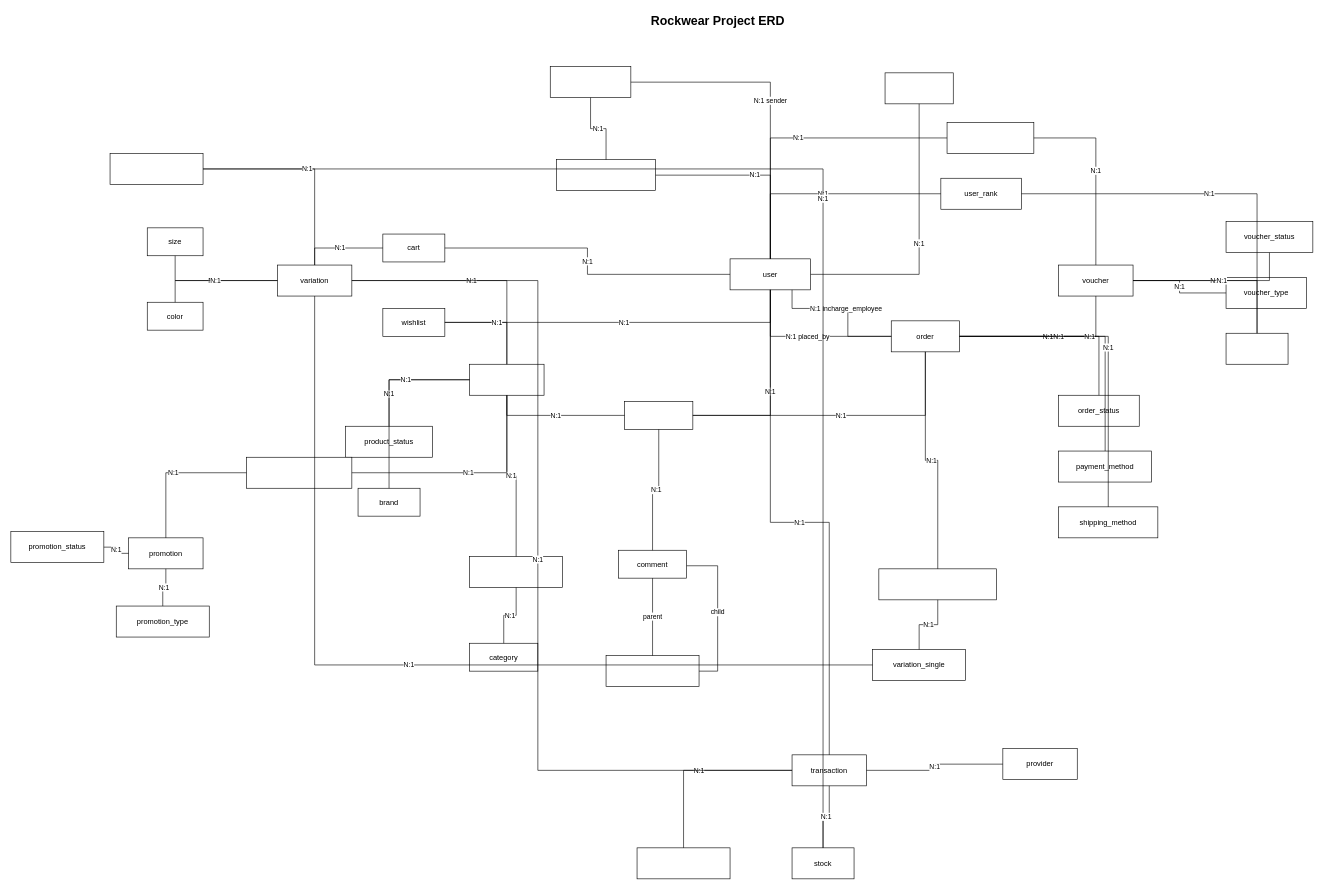
Some shapes in this 1324 by 890 pixel diagram are drawn without their labels. Each missing label, with the centre of its shape:
comment_parent: (x=652, y=671)
notification: (x=590, y=82)
notification_user: (x=606, y=175)
order_variation_single: (x=937, y=584)
product: (x=506, y=379)
product_category: (x=516, y=571)
promotion_product: (x=299, y=472)
rank: (x=1256, y=348)
review: (x=658, y=415)
role: (x=918, y=88)
stock_variation: (x=156, y=168)
transaction_type: (x=683, y=863)
user_voucher: (x=990, y=137)
